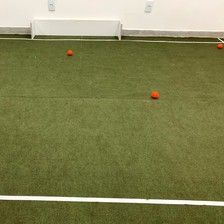ball: (148, 89, 160, 100), (64, 47, 74, 57), (215, 42, 224, 49)
goal: (27, 15, 124, 42)
